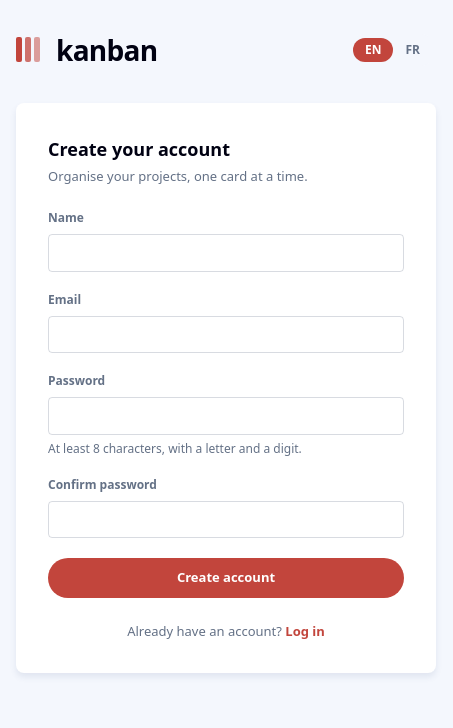
Test case: signup › flags an email that is already used
This screenshot has width=453, height=728.
In the field labelled "Name": (226, 253) [48,234,404,272], type "Someone"
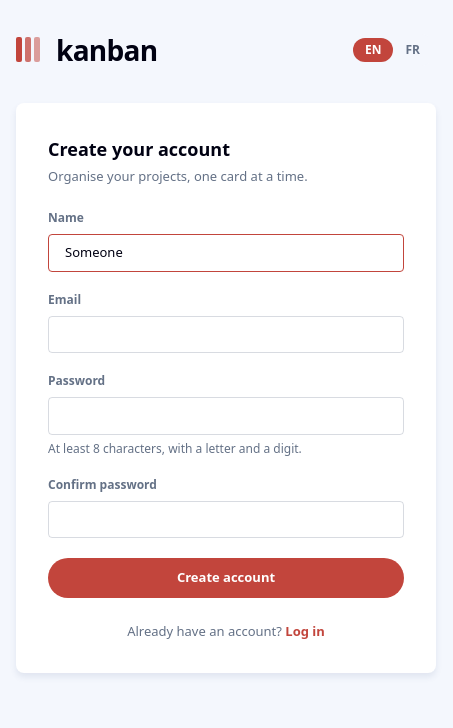
In the field labelled "Email": (226, 335) [48,316,404,353], type "taken@kanban.dev"
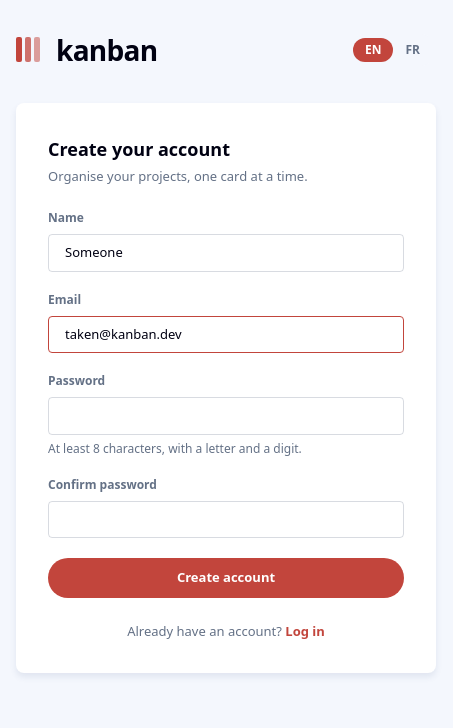
In the password field labelled "Password": (226, 416) [48,397,404,435], type "Secret123"
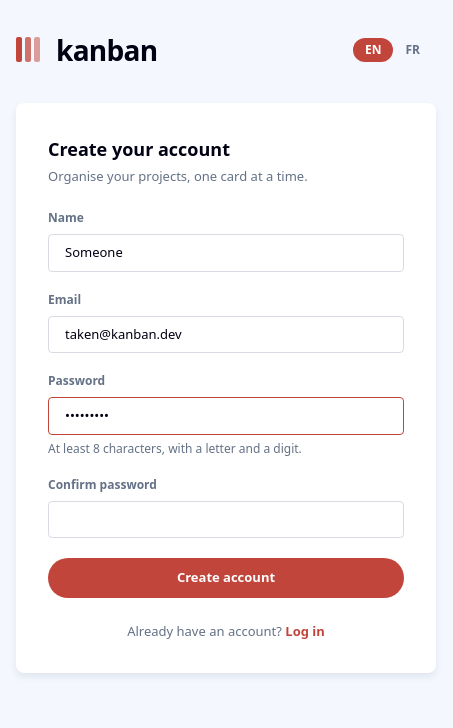
In the password field labelled "Confirm password": (226, 520) [48,501,404,538], type "Secret123"
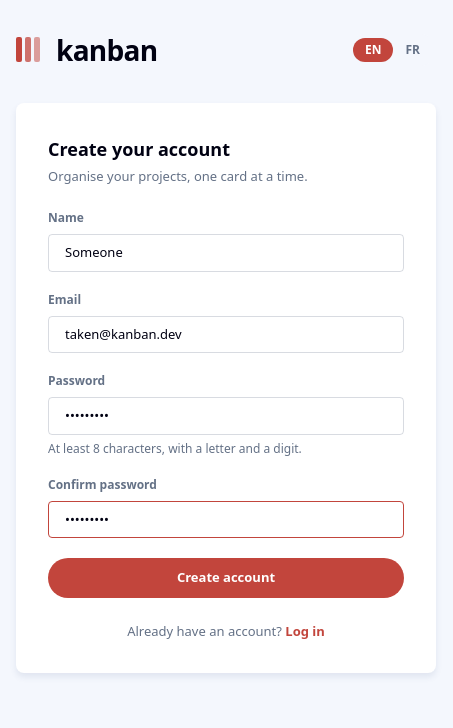
Click the button "Create account": click(226, 578) [48,558,404,598]
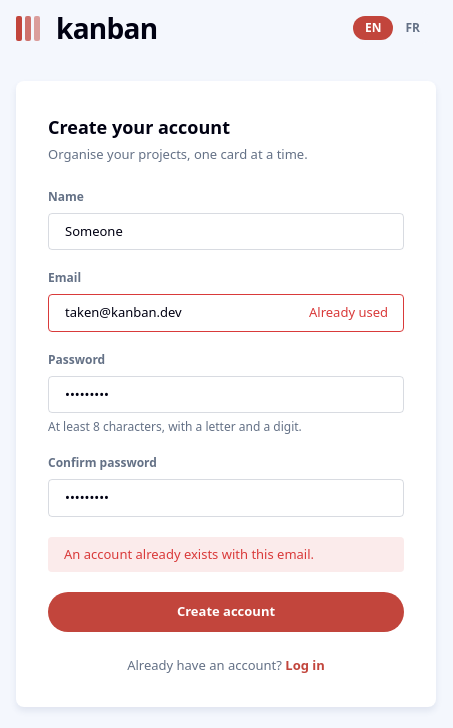
expect the message reads "An account already exists with this email.": met, box [64,544,314,562]
